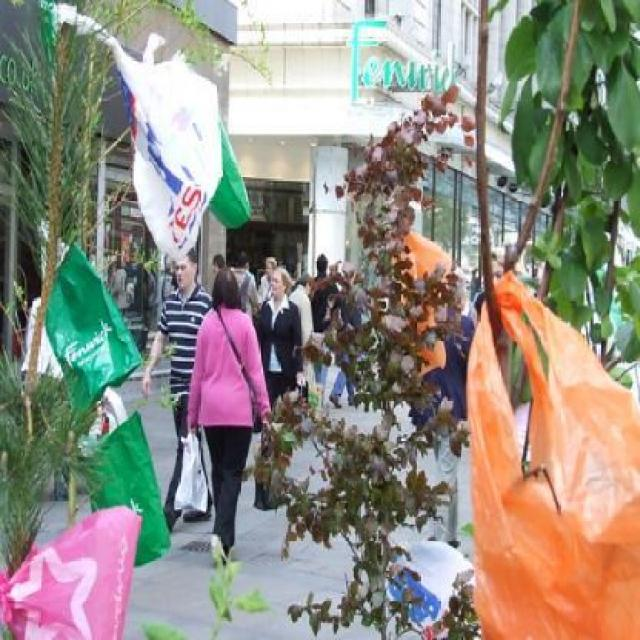plastic bag: (460, 267, 638, 638), (99, 20, 228, 248), (0, 498, 140, 638), (42, 241, 140, 417), (84, 412, 170, 566), (391, 223, 452, 383)
